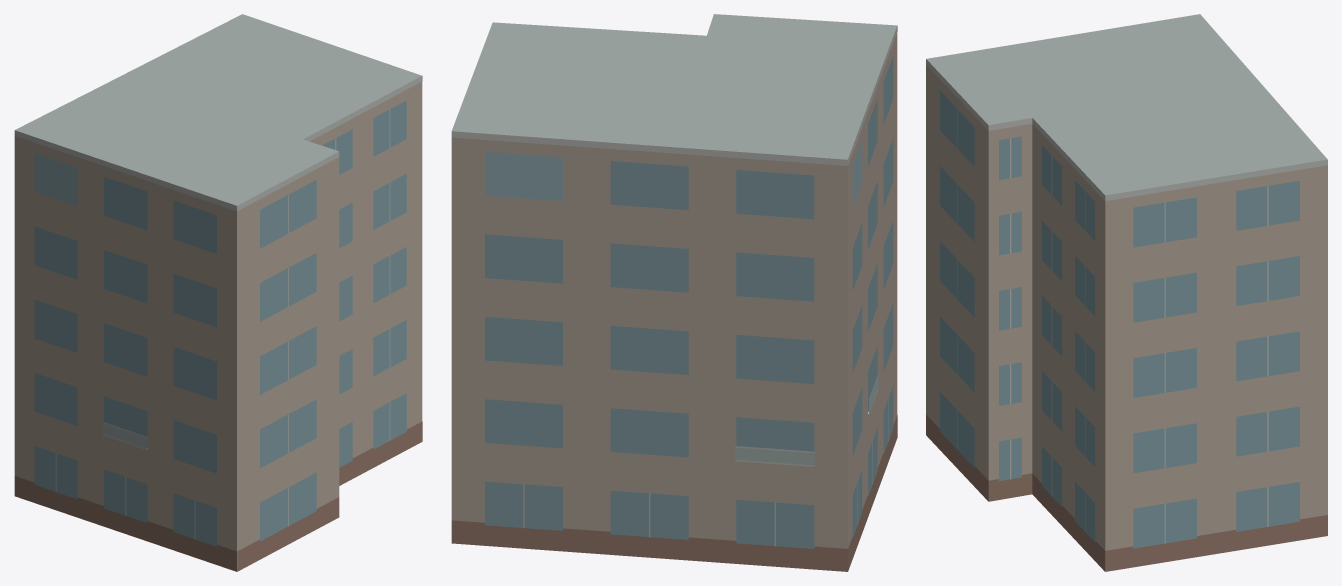
Rendered from survey-upis-32846405.glb.
3 renders of one model, left to right at view 1: azimuth 30°, elevation 25°; view 2: azimuth 150°, elevation 25°; view 3: azimuth 270°, elevation 25°, orthographic. The views are drawn at different scales.
Parts seen in each view (by area): view 1: survey-upis-32846405.tmp; view 2: survey-upis-32846405.tmp; view 3: survey-upis-32846405.tmp.
Part boxes in pixels (left/top/right/bottom): survey-upis-32846405.tmp: left=14, top=14, right=422, bottom=571; survey-upis-32846405.tmp: left=451, top=14, right=897, bottom=571; survey-upis-32846405.tmp: left=926, top=14, right=1327, bottom=571.
Size of the model in its own units: 16.66 by 16.1 by 15.58.
